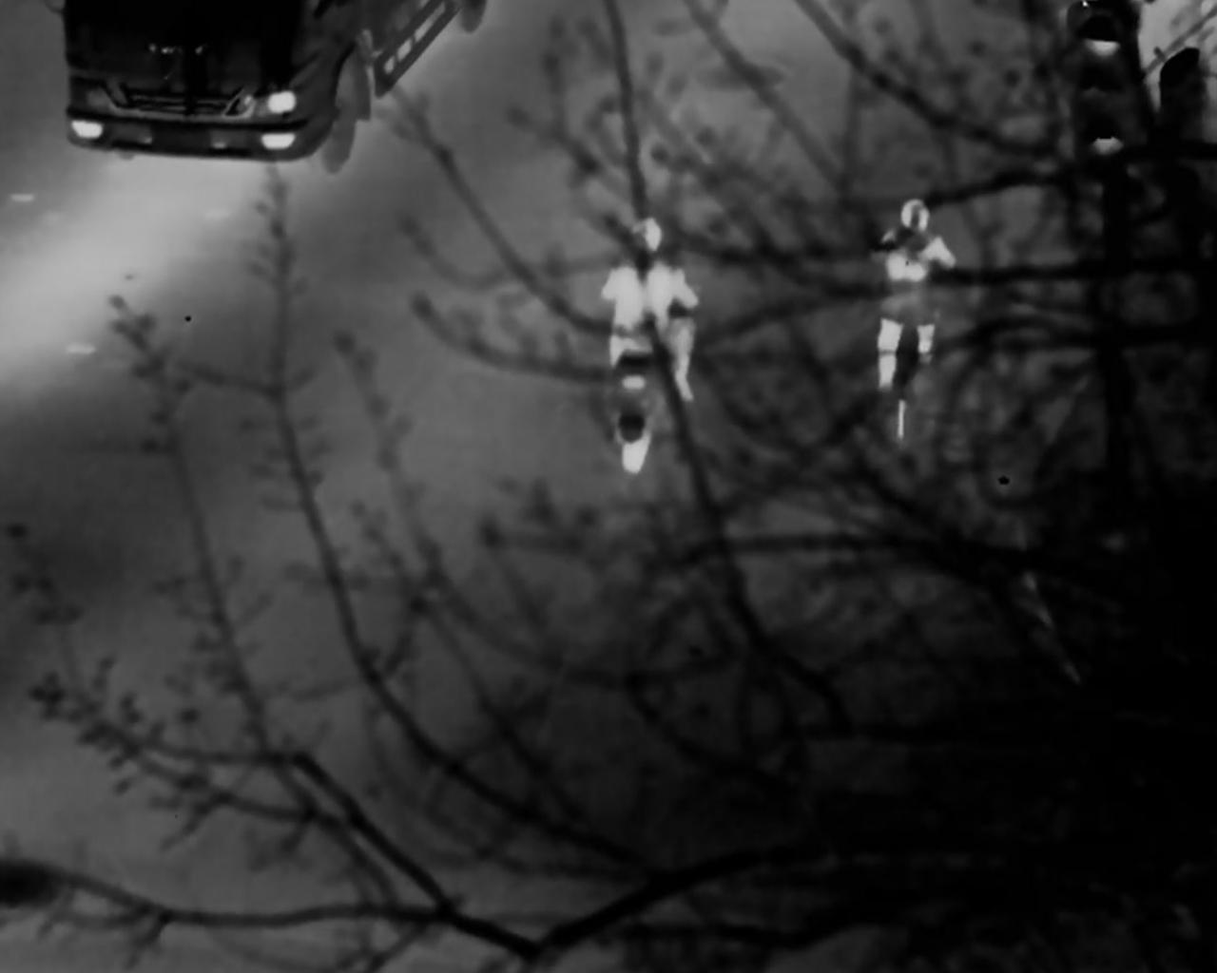person: (607, 202, 702, 431), (869, 196, 956, 443)
